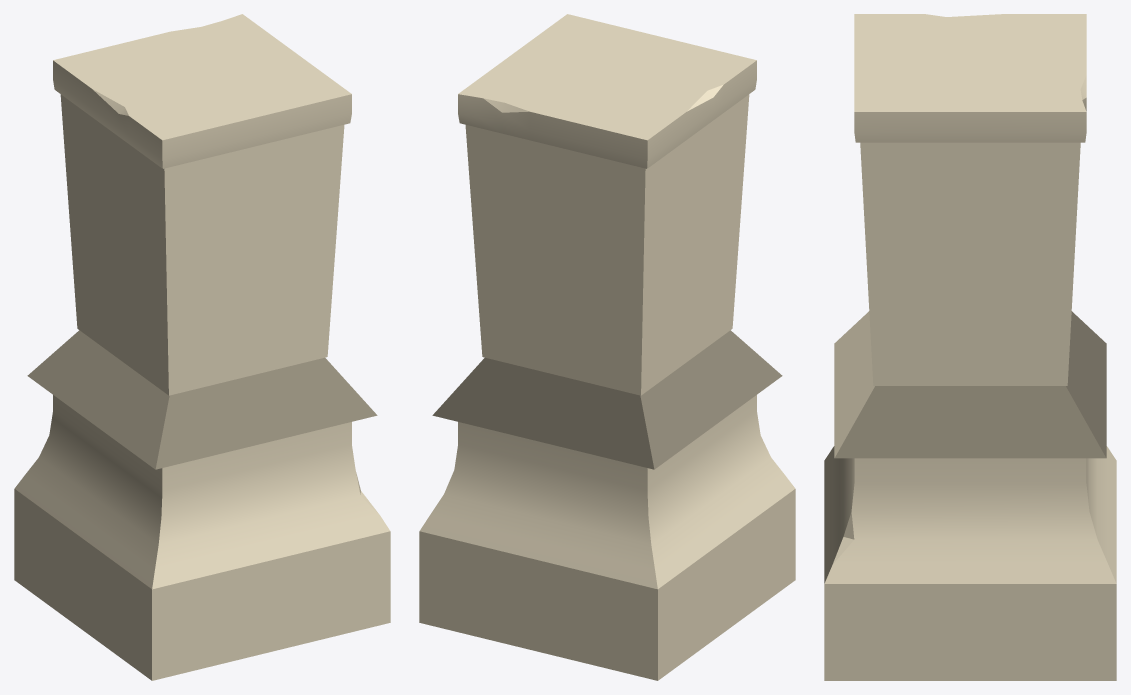
The model's file is Baranda Individual FBX.fbx.
The picture shows the model from 3 angles, left to right: view 1: azimuth 30°, elevation 25°; view 2: azimuth 150°, elevation 25°; view 3: azimuth 270°, elevation 25°; orthographic projection. The views are drawn at different scales.
Visible parts, largest first — view 1: Baranda_Simple_Individual; view 2: Baranda_Simple_Individual; view 3: Baranda_Simple_Individual.
Part boxes in pixels (x1=…): Baranda_Simple_Individual: x1=14, y1=14, x2=390, y2=680; Baranda_Simple_Individual: x1=419, y1=14, x2=795, y2=680; Baranda_Simple_Individual: x1=824, y1=14, x2=1116, y2=680.
Size of the model in its own units: 0.6747 by 1.42 by 0.6747.
